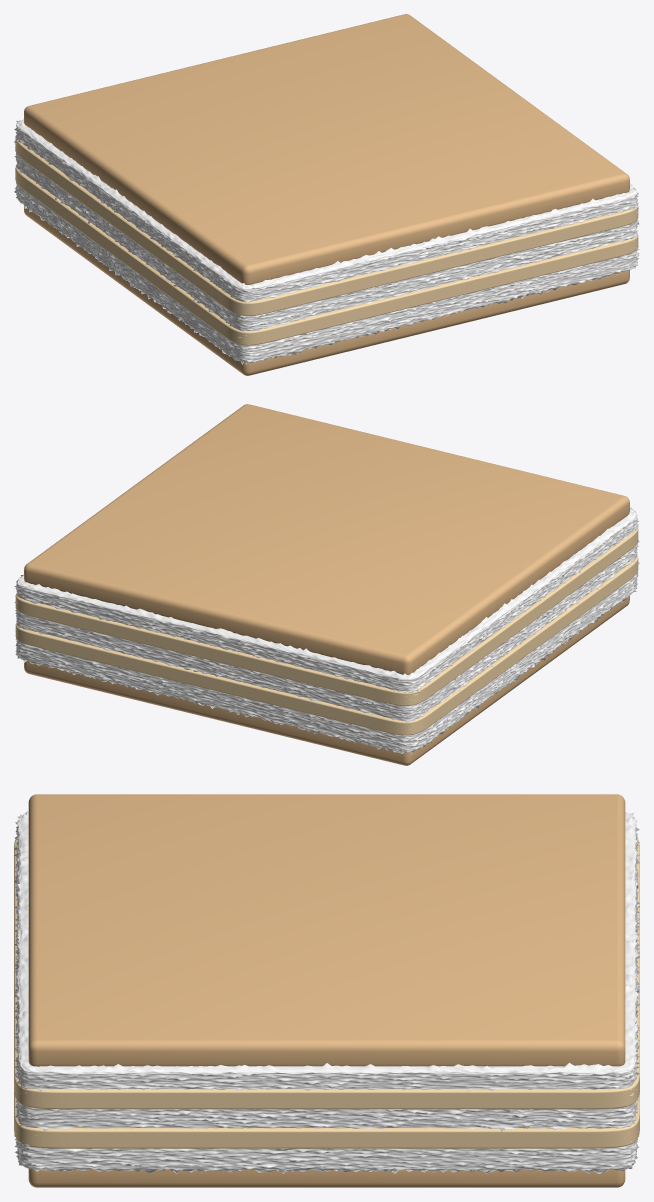
File: 夾心餅乾.glb
3 views of the same model, one above another, from view 1: azimuth 30°, elevation 25°; view 2: azimuth 150°, elevation 25°; view 3: azimuth 270°, elevation 25° (orthographic). The views are drawn at different scales.
Parts seen in each view (by area): view 1: Cube.001; view 2: Cube.001; view 3: Cube.001.
Boxes of the visible parts, bbox=[...] form: Cube.001: bbox=[14, 14, 639, 375]; Cube.001: bbox=[14, 404, 639, 765]; Cube.001: bbox=[14, 794, 639, 1187].
Size of the model in its own units: 2.1 by 0.5447 by 2.1.
